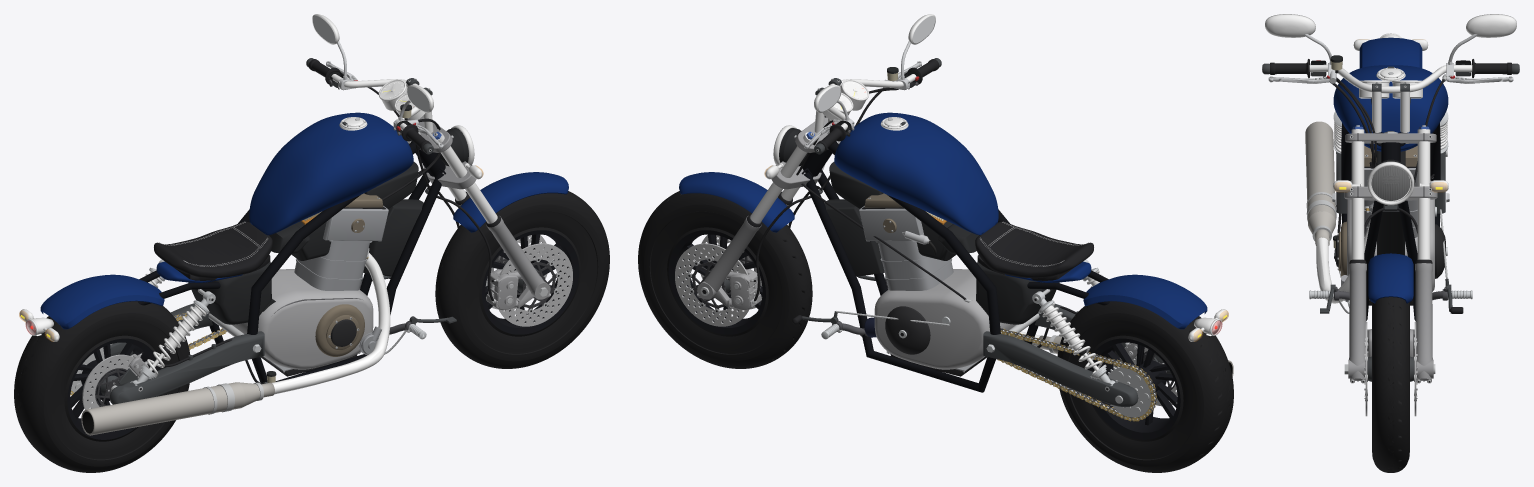
File: kazeda_cruiser.glb
3 renders of one model, left to right at view 1: azimuth 30°, elevation 25°; view 2: azimuth 150°, elevation 25°; view 3: azimuth 270°, elevation 25°, orthographic. The views are drawn at different scales.
Parts seen in each view (by area): view 1: kazeda_cruiser; view 2: kazeda_cruiser; view 3: kazeda_cruiser.
Part boxes in pixels (x1,y1,x2,y2): kazeda_cruiser: (14, 14, 609, 472); kazeda_cruiser: (638, 14, 1233, 472); kazeda_cruiser: (1262, 14, 1519, 472).
Size of the model in its own units: 2.3 by 1.3 by 0.8198.
